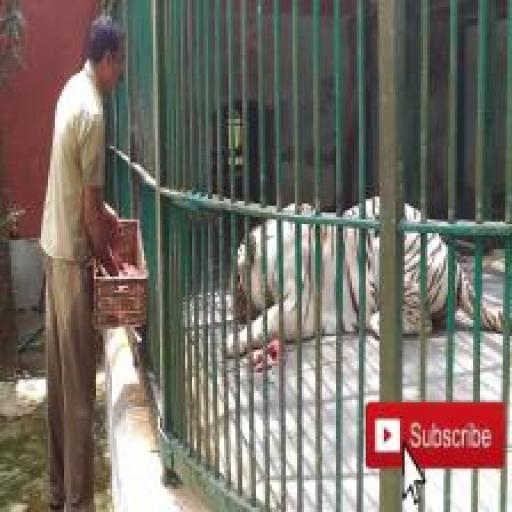Tiger: (226, 196, 512, 359)
